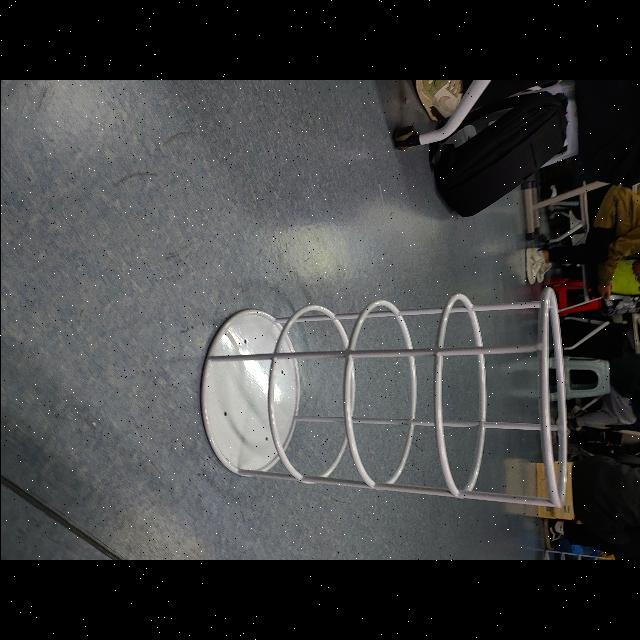S: (193, 282, 574, 512)
